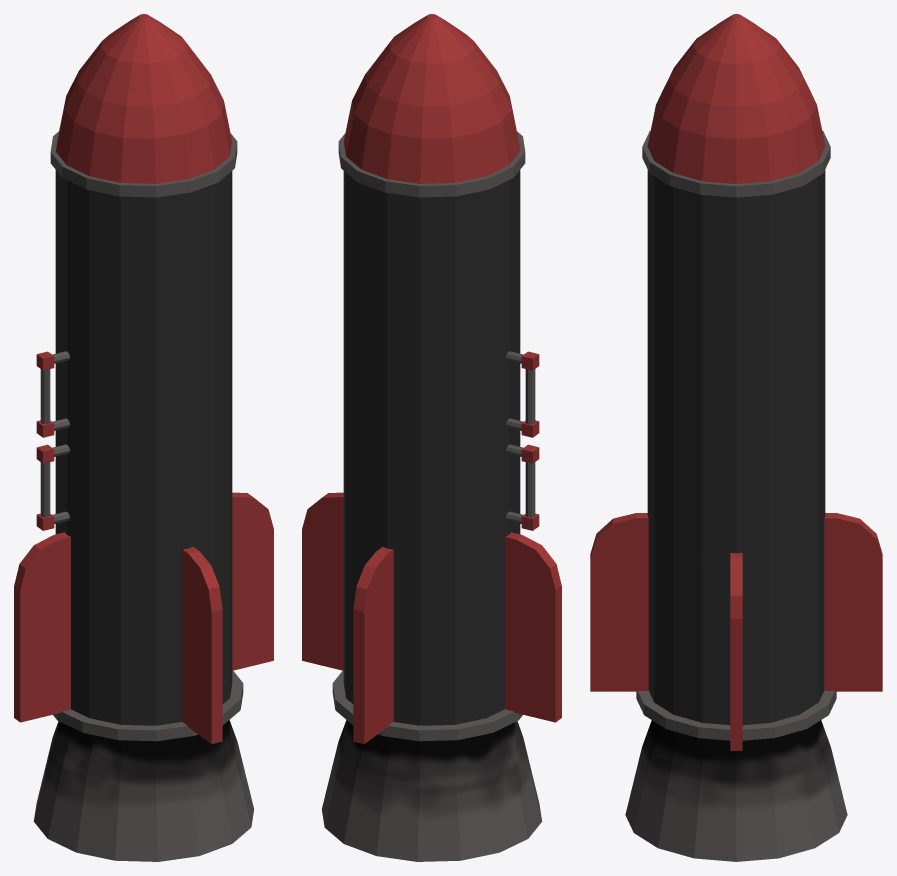
File: missiles(1).fbx
The picture shows the model from 3 angles, left to right: view 1: azimuth 30°, elevation 25°; view 2: azimuth 150°, elevation 25°; view 3: azimuth 270°, elevation 25°; orthographic projection.
Visible parts, largest first — view 1: r1; view 2: r1; view 3: r1.
Part boxes in pixels (bbox=[...]): r1: bbox=[14, 14, 273, 861]; r1: bbox=[302, 14, 561, 861]; r1: bbox=[590, 14, 882, 861].
Size of the model in its own units: 449 by 1353 by 449.
